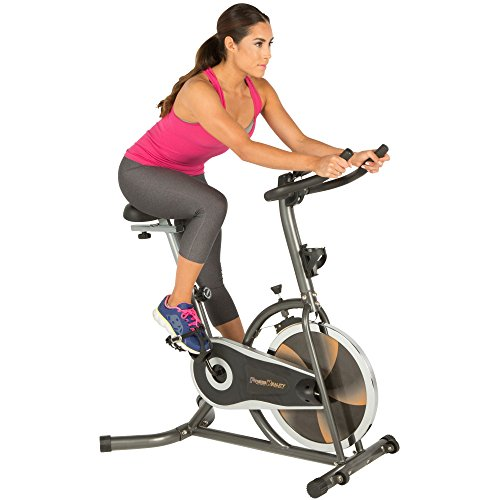gym_bike: (90, 137, 400, 500)
